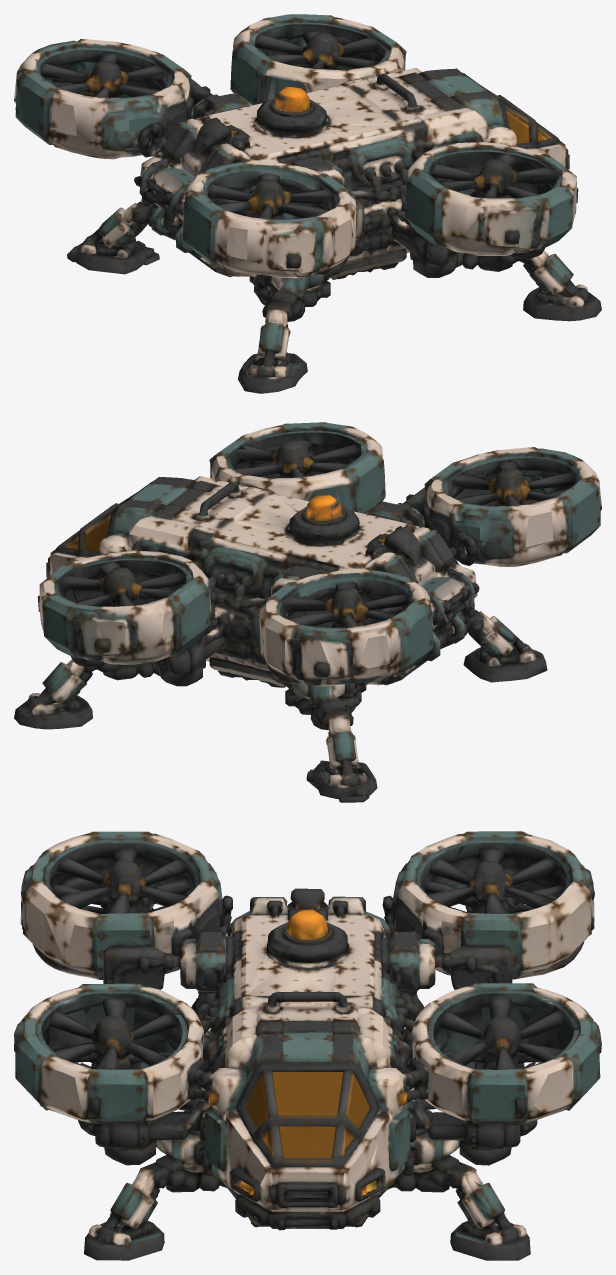
The model's file is SM_Extractor.fbx.
The picture shows the model from 3 angles, top to bottom: view 1: azimuth 30°, elevation 25°; view 2: azimuth 150°, elevation 25°; view 3: azimuth 270°, elevation 25°; orthographic projection. The views are drawn at different scales.
Visible parts, largest first — view 1: SM_Extractor; view 2: SM_Extractor; view 3: SM_Extractor.
Boxes of the visible parts, x1,y1,x2,y2 form: SM_Extractor: [14, 14, 601, 393]; SM_Extractor: [14, 422, 601, 802]; SM_Extractor: [14, 831, 601, 1260].
Size of the model in its own units: 1.97 by 0.861 by 2.01.
